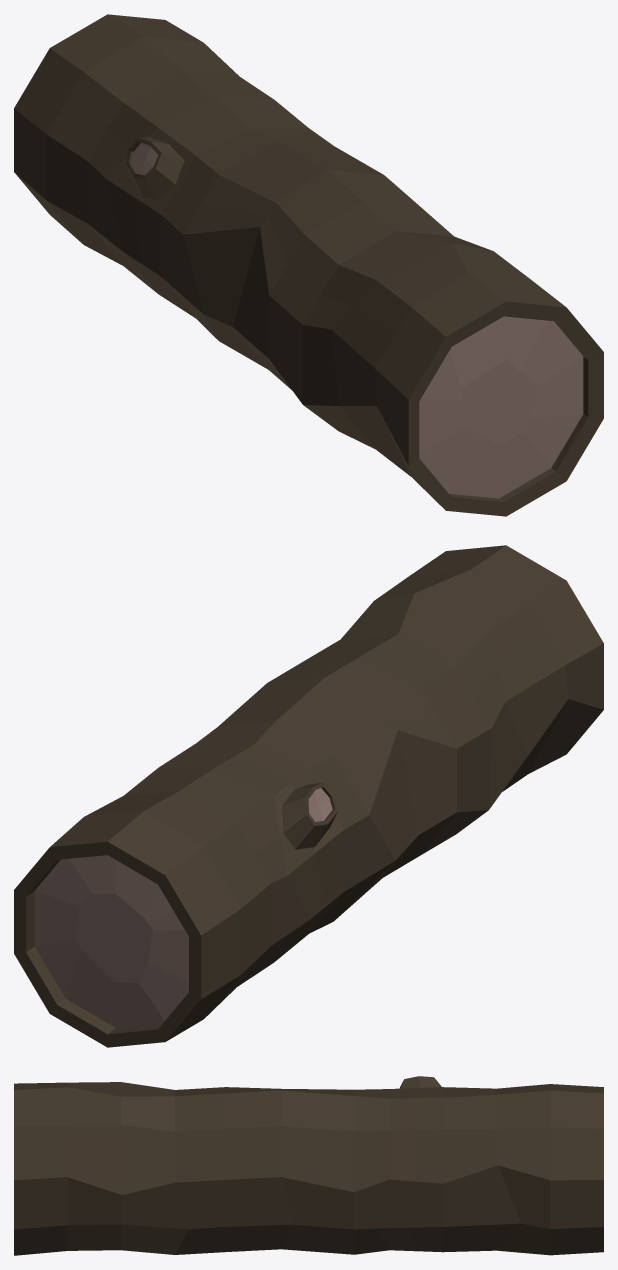
File: log_2.fbx
3 views of the same model, one above another, from view 1: azimuth 30°, elevation 25°; view 2: azimuth 150°, elevation 25°; view 3: azimuth 270°, elevation 25° (orthographic). The views are drawn at different scales.
Parts seen in each view (by area): view 1: log_2; view 2: log_2; view 3: log_2.
Part boxes in pixels (x1,y1,x2,y2): log_2: (14, 14, 603, 516); log_2: (14, 545, 603, 1047); log_2: (14, 1076, 603, 1255).
Bounding box in the file's own units: 86.52 × 89.92 × 298.
